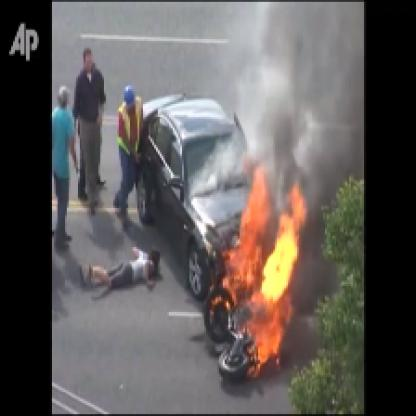Fire: (208, 152, 308, 379)
Smoke: (242, 2, 362, 171)
